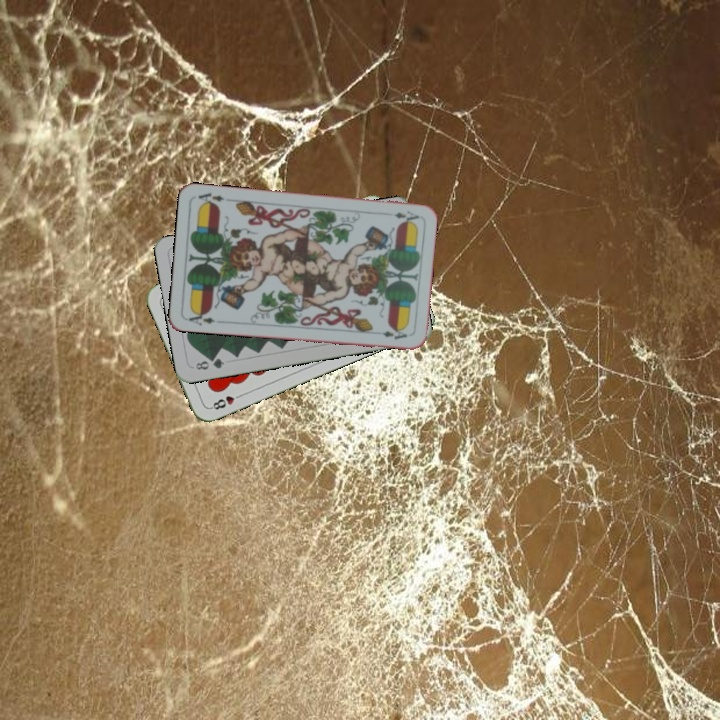EA: (183, 307, 223, 328), (390, 207, 422, 225)
G8: (191, 354, 227, 373)
H8: (206, 390, 245, 412)
